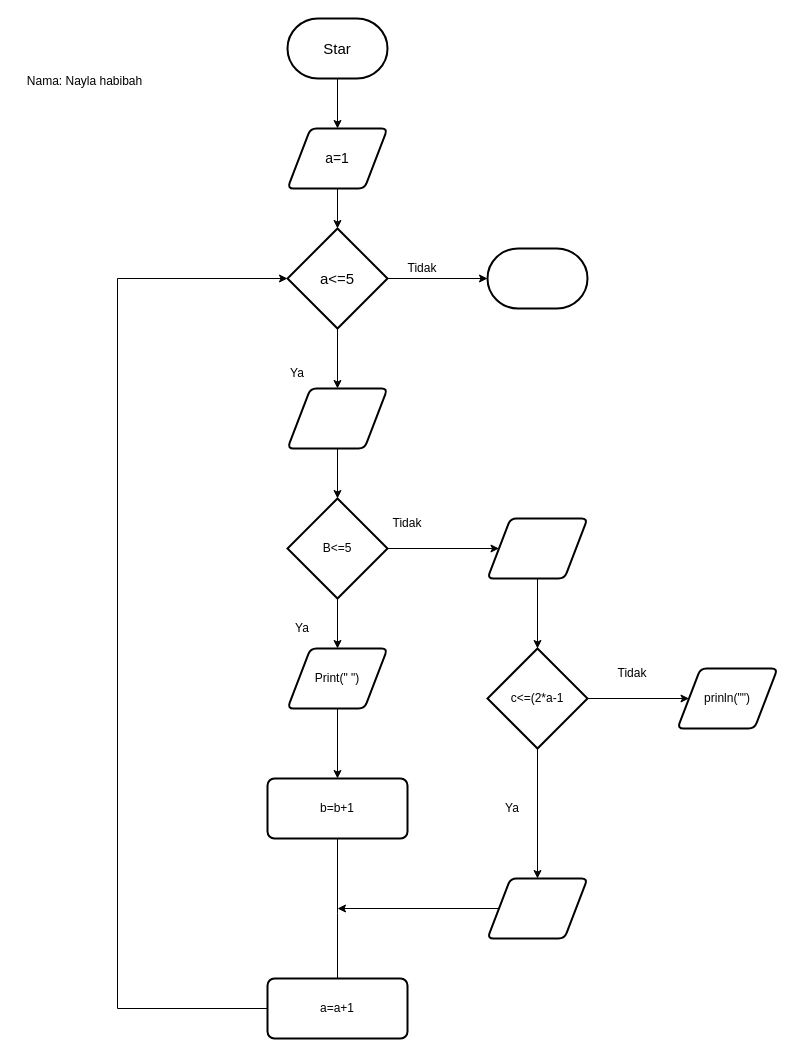
The diagram is 795 pixels wide and 1056 high, and some of its shapes have lost their labels. Here are the shapes that lost their labels. From the top down, the centre of each, then its label:
point (537, 278): FINISH
point (337, 418): b=a
point (537, 548): C=1
point (537, 908): Print("*")
